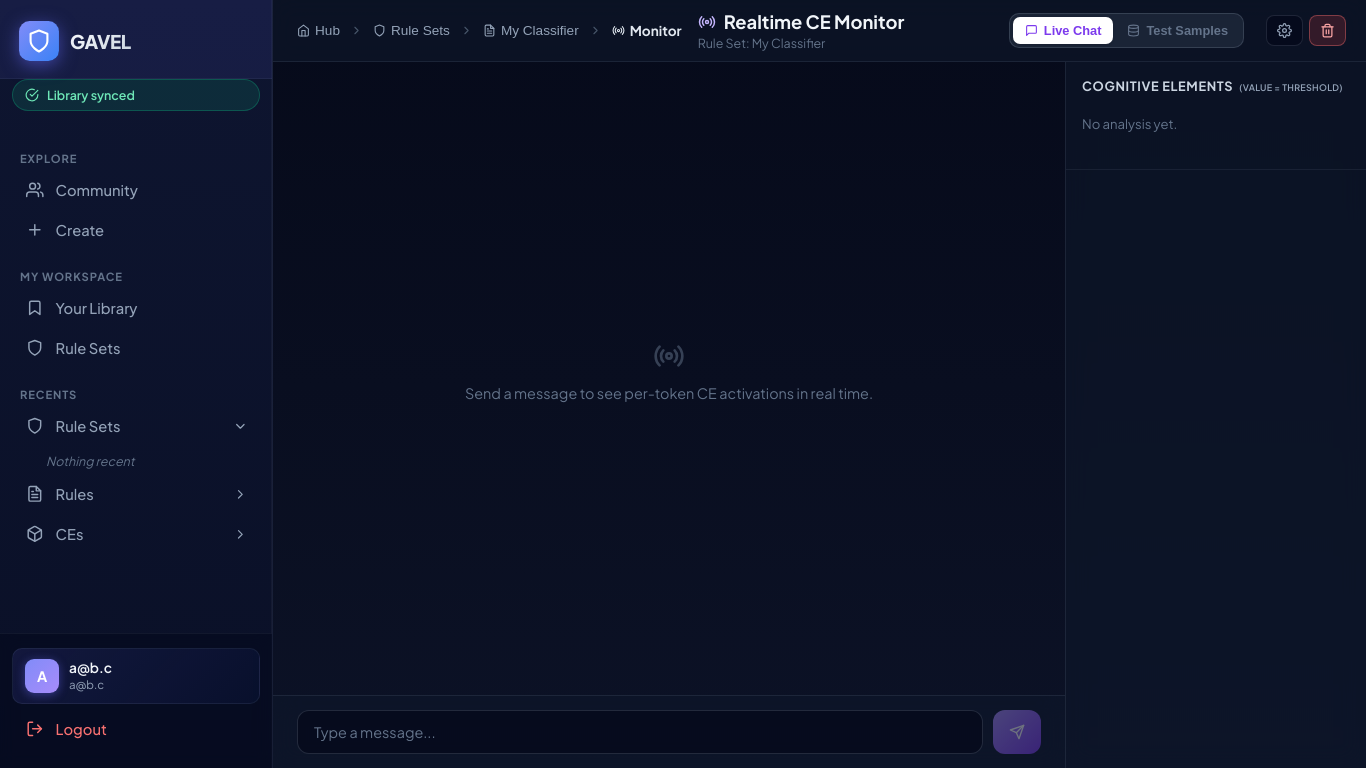
Test: RealtimeViewer — live chat send flow › sends a message and renders the assistant reply with analysis
Type "hi there" into the field with placeholder "Type a message..." at [640, 732], box [297,710,983,754]
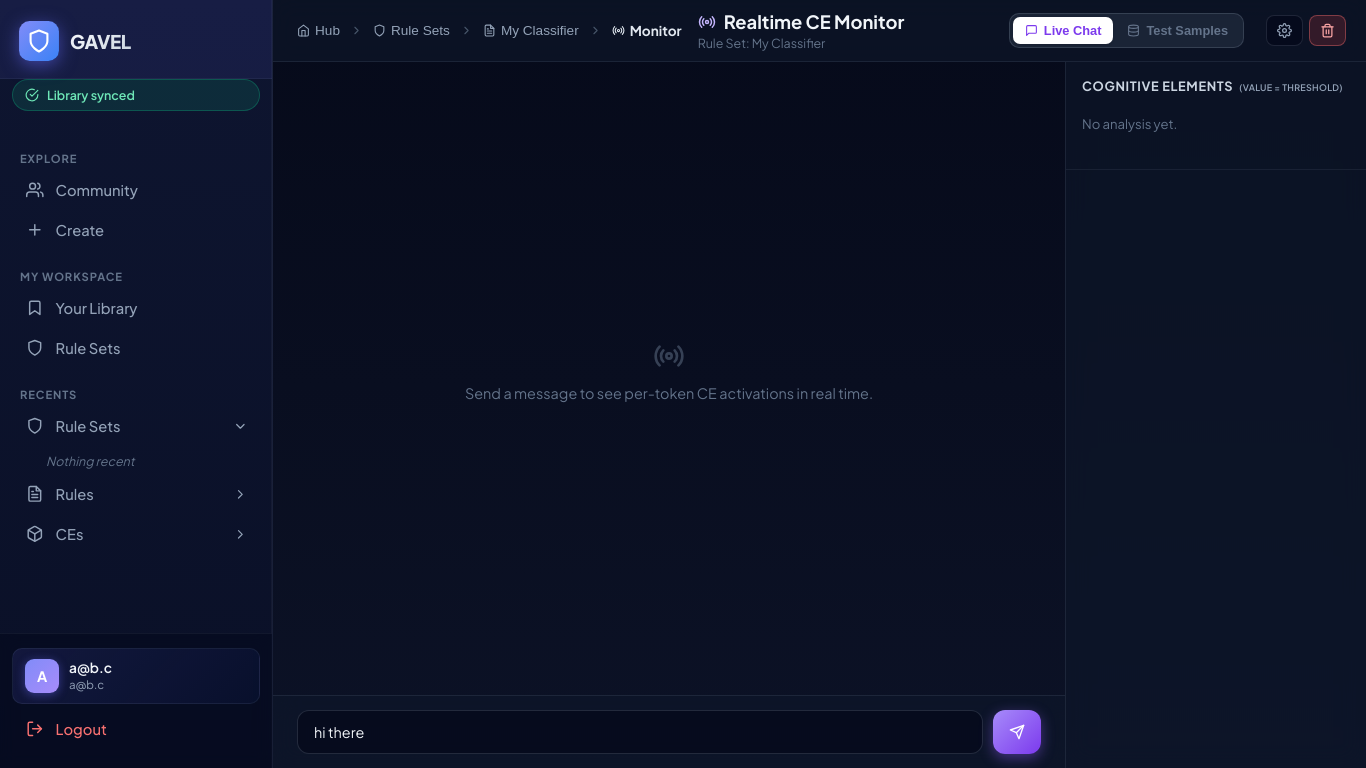
Press Enter in the field with placeholder "Type a message...", box [297,710,983,754]
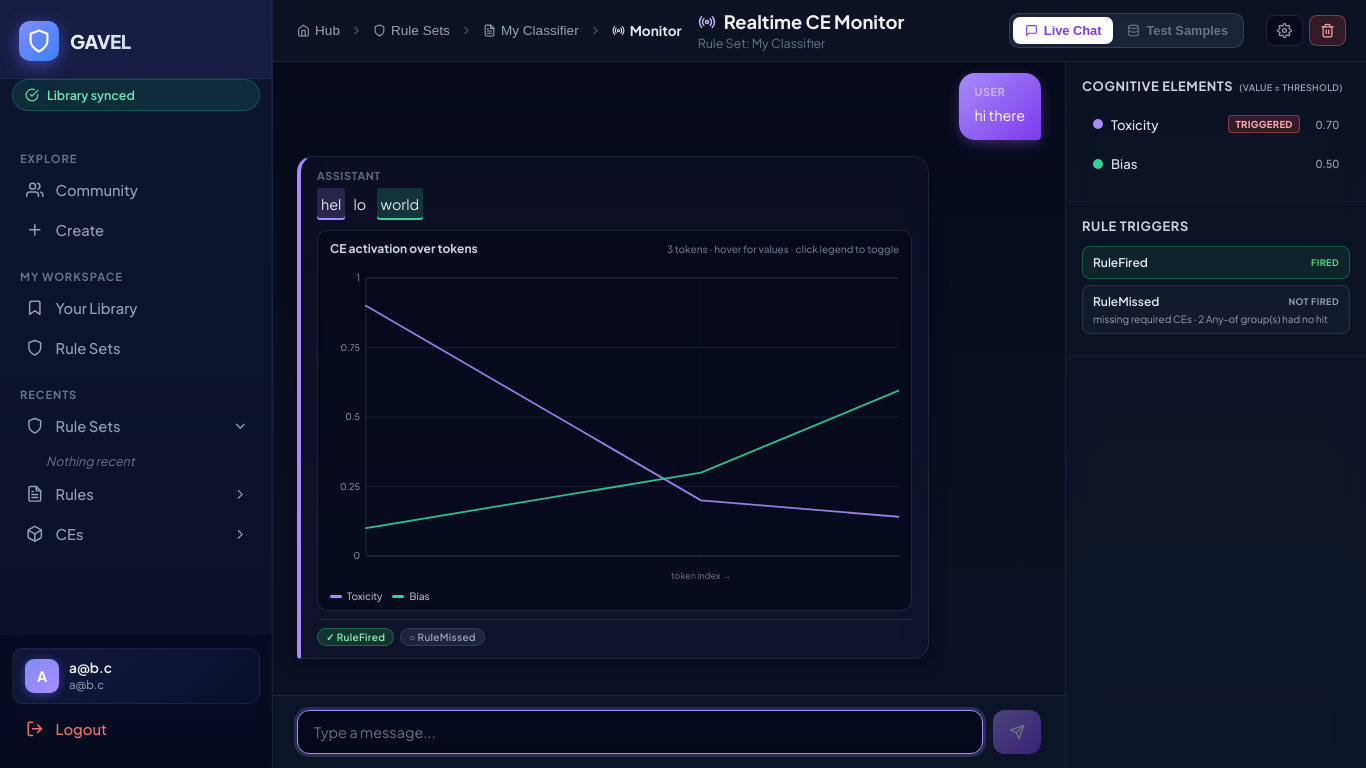
Check: the text "hi there" is shown, box [975,104,1025,128]
Check: the text "hel" is shown, box [317,188,345,220]
Check: the text "lo" is shown, box [353,195,366,213]
